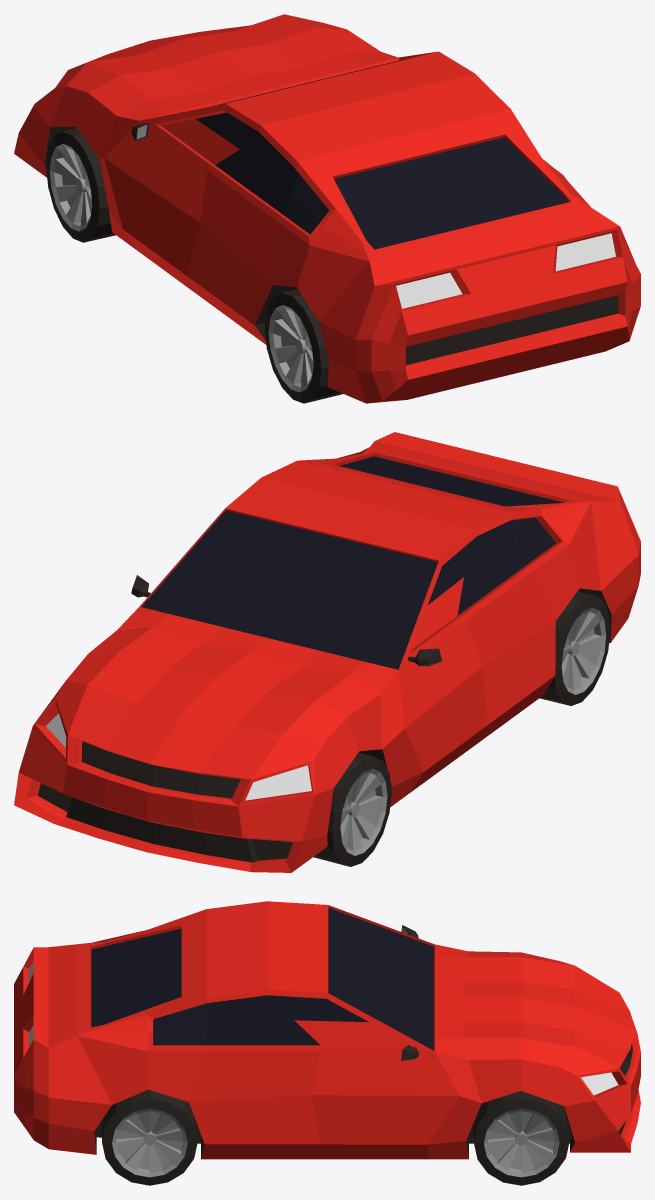
Rendered from car-test.fbx.
The picture shows the model from 3 angles, top to bottom: view 1: azimuth 30°, elevation 25°; view 2: azimuth 150°, elevation 25°; view 3: azimuth 270°, elevation 25°; orthographic projection. The views are drawn at different scales.
Parts seen in each view (by area): view 1: Car, Rueda Trasera Izquierda, Rueda Delantera Izquierda; view 2: Car, Rueda Delantera Izquierda, Rueda Trasera Izquierda; view 3: Car, Rueda Trasera Derecha, rueda delantera Derecha.
Boxes of the visible parts, <box> form: Car: <box>14,14,640,403</box>; Rueda Trasera Izquierda: <box>264,289,342,403</box>; Rueda Delantera Izquierda: <box>46,128,115,242</box>; Car: <box>14,432,640,872</box>; Rueda Delantera Izquierda: <box>313,752,391,866</box>; Rueda Trasera Izquierda: <box>540,591,610,705</box>; Car: <box>14,901,640,1159</box>; Rueda Trasera Derecha: <box>102,1089,197,1185</box>; rueda delantera Derecha: <box>472,1091,569,1185</box>.
Size of the model in its own units: 2.11 by 1.41 by 4.42.
